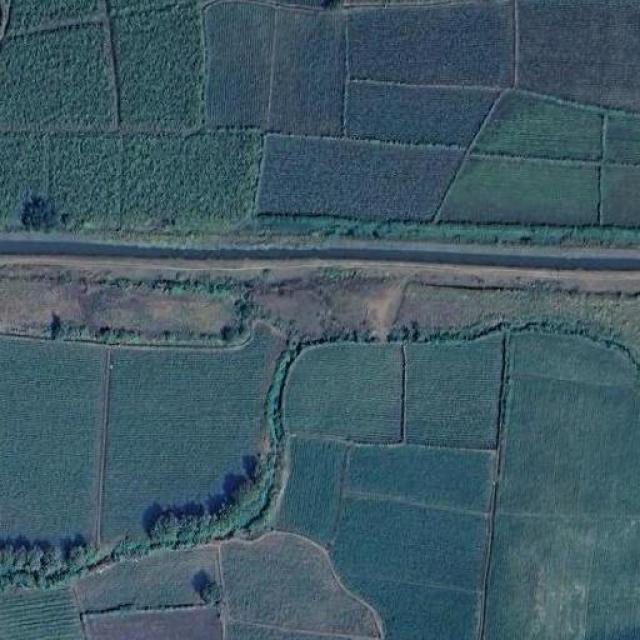land-Sx1C: (486, 335, 640, 639), (102, 326, 281, 539), (0, 336, 105, 538), (254, 139, 469, 222), (221, 532, 376, 636), (342, 3, 512, 87), (118, 135, 262, 233), (516, 2, 640, 114), (335, 499, 484, 589), (0, 23, 116, 130), (432, 155, 603, 224), (112, 6, 206, 130), (0, 139, 126, 231), (284, 344, 401, 442), (406, 336, 502, 448), (265, 6, 346, 138), (346, 83, 505, 145), (349, 445, 494, 511), (200, 0, 272, 129), (475, 90, 605, 161), (342, 576, 481, 640), (78, 547, 218, 610), (274, 438, 348, 544), (84, 606, 222, 640), (0, 586, 82, 640), (8, 0, 107, 38), (599, 162, 640, 227), (602, 115, 640, 167)
